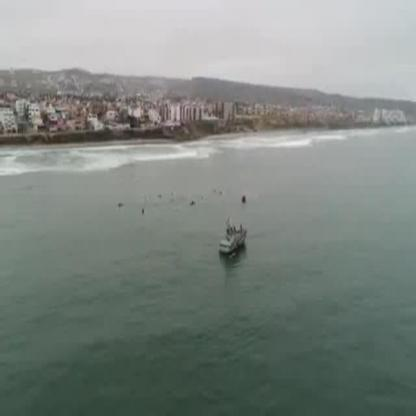Boat: (219, 221, 247, 255)
